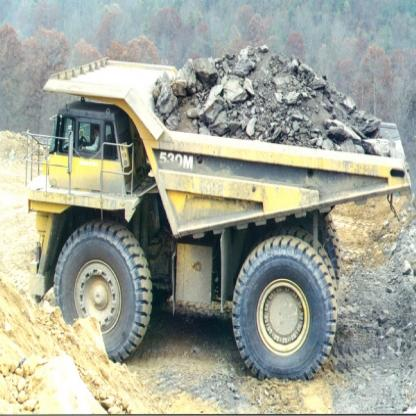dump_truck: (19, 38, 413, 380)
